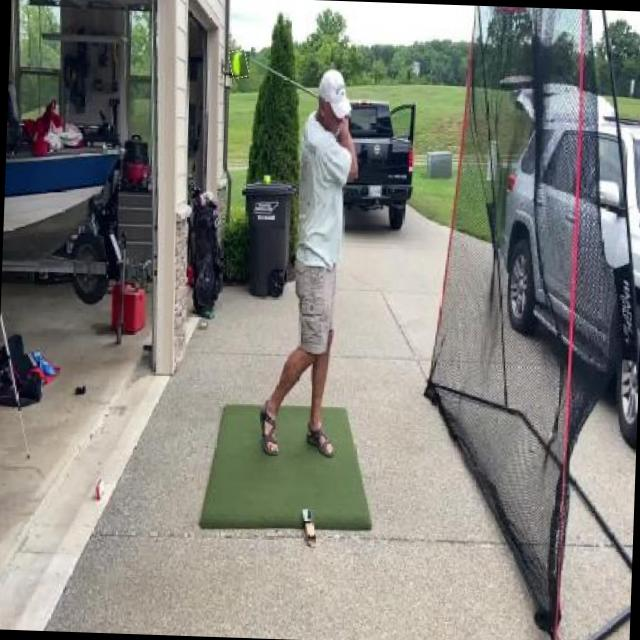club head: (228, 50, 250, 78)
